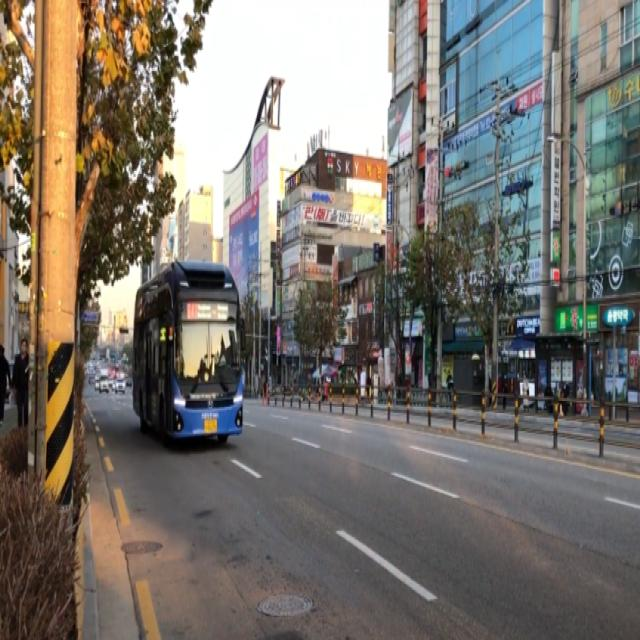bus-number: (187, 302, 198, 321)
